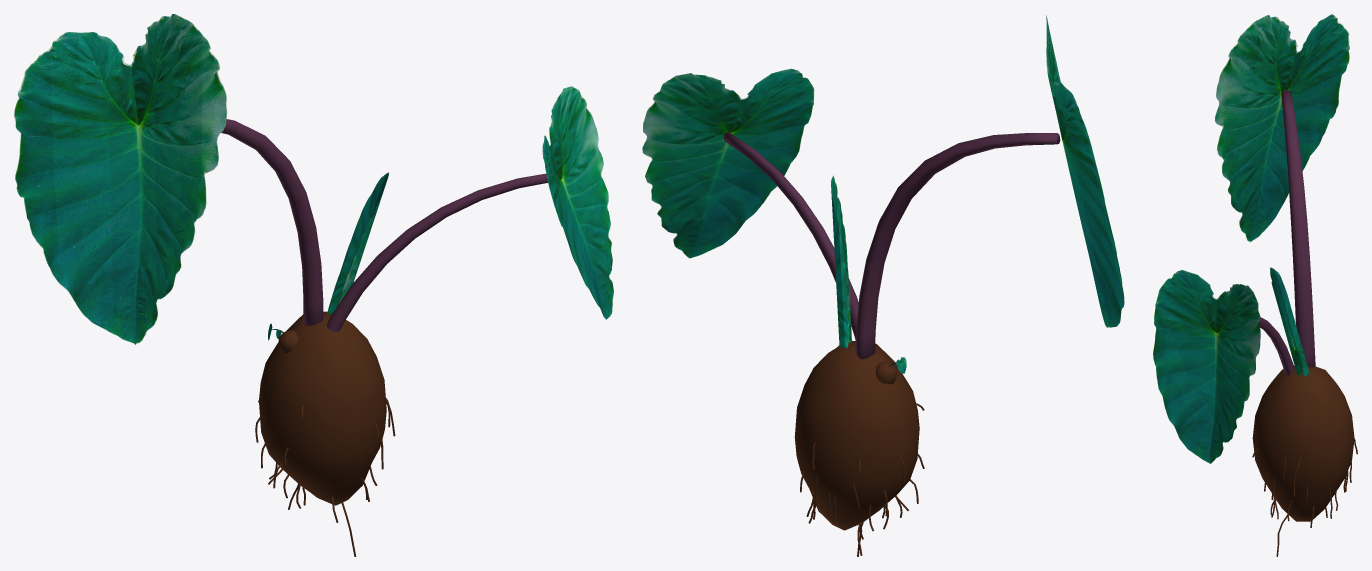
The model's file is kalo.glb.
3 views of the same model, side by side, from view 1: azimuth 30°, elevation 25°; view 2: azimuth 150°, elevation 25°; view 3: azimuth 270°, elevation 25° (orthographic). The views are drawn at different scales.
Parts seen in each view (by area): view 1: kalo, Icosphere, kalo straight.001, Circle, Circle.002, kalo straight.002, Mesh; view 2: kalo straight.001, Icosphere, kalo, Circle, Circle.002, kalo straight.002, Mesh; view 3: kalo, kalo straight.001, Icosphere, Circle, kalo straight.002, Mesh, Circle.002.
Boxes of the visible parts, bbox=[...] form: kalo: bbox=[14, 14, 227, 344]; Icosphere: bbox=[259, 311, 386, 505]; kalo straight.001: bbox=[542, 86, 613, 319]; Circle: bbox=[221, 119, 323, 325]; Circle.002: bbox=[327, 173, 547, 332]; kalo straight.002: bbox=[327, 172, 388, 313]; Mesh: bbox=[255, 398, 395, 556]; kalo straight.001: bbox=[642, 68, 814, 258]; Icosphere: bbox=[794, 341, 919, 530]; kalo: bbox=[1046, 15, 1124, 327]; Circle: bbox=[855, 133, 1060, 359]; Circle.002: bbox=[723, 132, 858, 339]; kalo straight.002: bbox=[831, 175, 851, 347]; Mesh: bbox=[800, 403, 924, 556]; kalo: bbox=[1215, 14, 1349, 242]; kalo straight.001: bbox=[1153, 270, 1260, 463]; Icosphere: bbox=[1252, 365, 1354, 521]; Circle: bbox=[1281, 90, 1315, 367]; kalo straight.002: bbox=[1270, 267, 1308, 376]; Mesh: bbox=[1252, 435, 1357, 556]; Circle.002: bbox=[1258, 317, 1294, 375].
Size of the model in its own units: 9.65 by 10.17 by 4.02.
5 materials, 2 textured.
